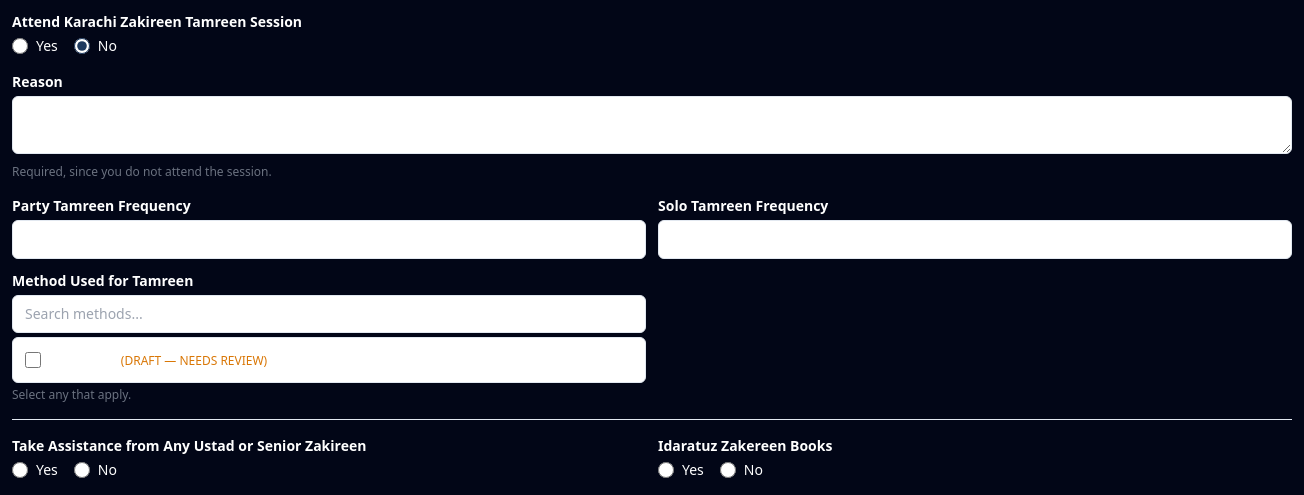
it: Tab 11 — Tamreen › asks for a reason only on No, and clears it on Yes
Check: the text box labelled "Reason" is shown, box top-left (12, 96), bottom-right (1292, 154)
Click the radio button labelled "Yes" below "Attend Karachi Zakireen Tamreen Session". click: (20, 46)
box: top-left (12, 38), bottom-right (28, 54)
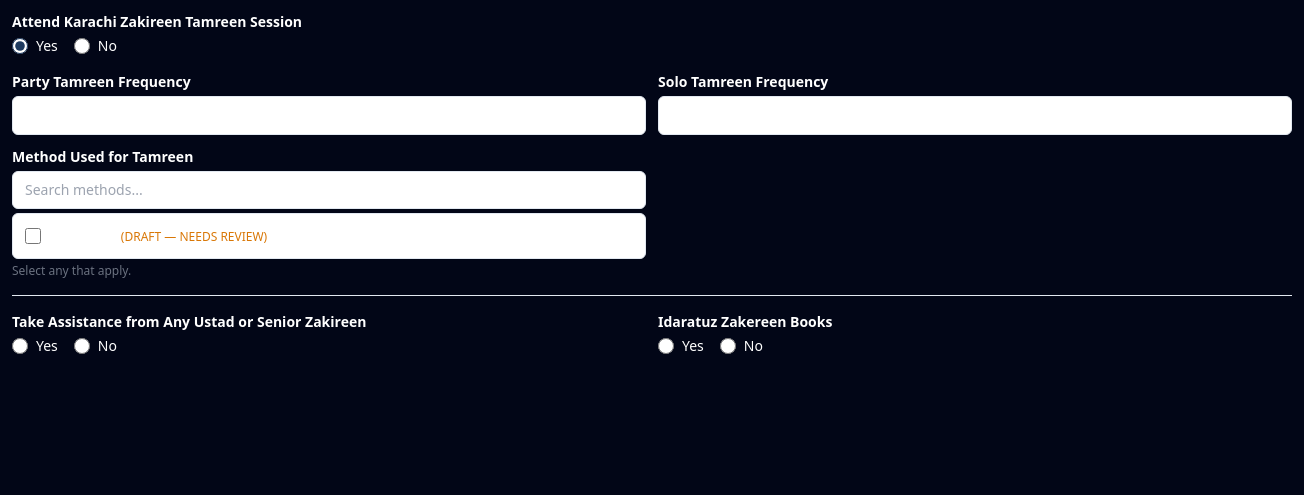
Check: the label labelled "Reason" is gone
